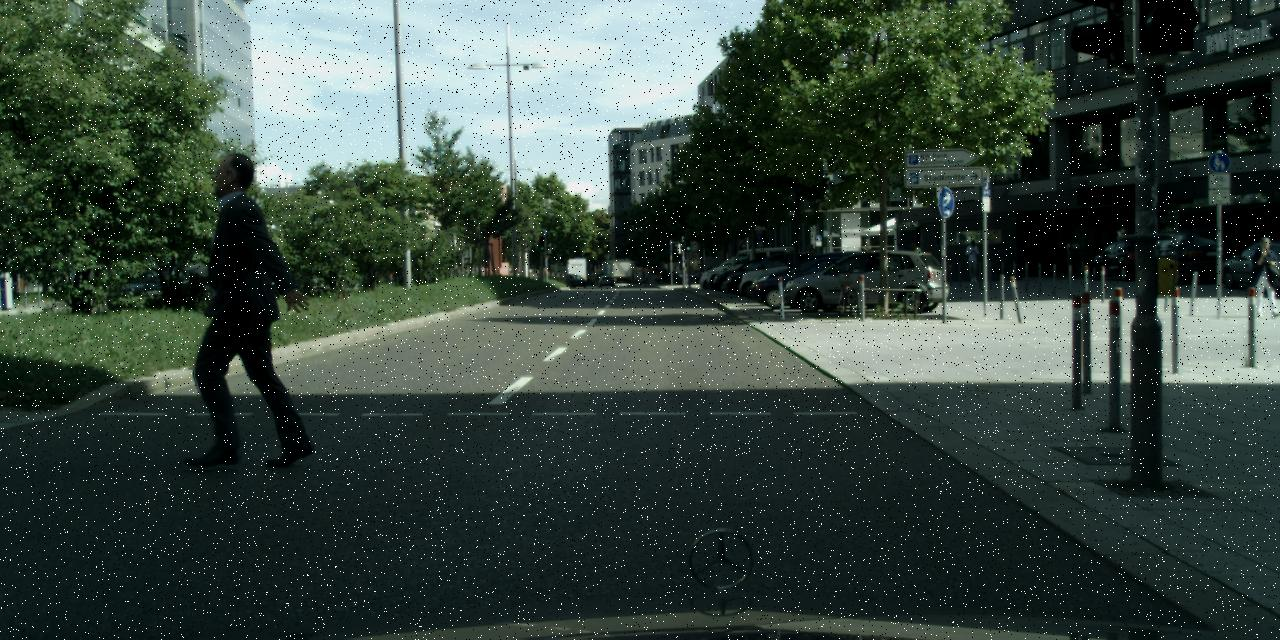ped: (182, 152, 310, 466), (1249, 236, 1279, 317), (964, 239, 980, 280), (909, 243, 923, 280), (805, 248, 819, 282), (862, 239, 871, 263)
